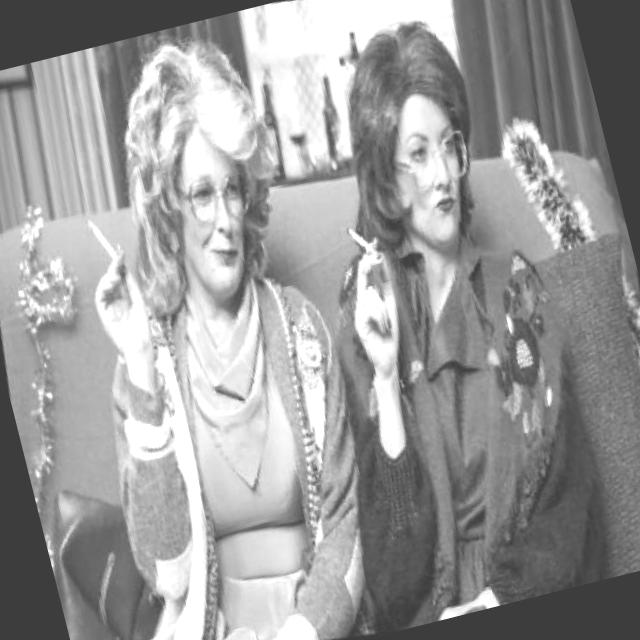cigarette: (77, 213, 134, 284), (338, 219, 382, 266)
